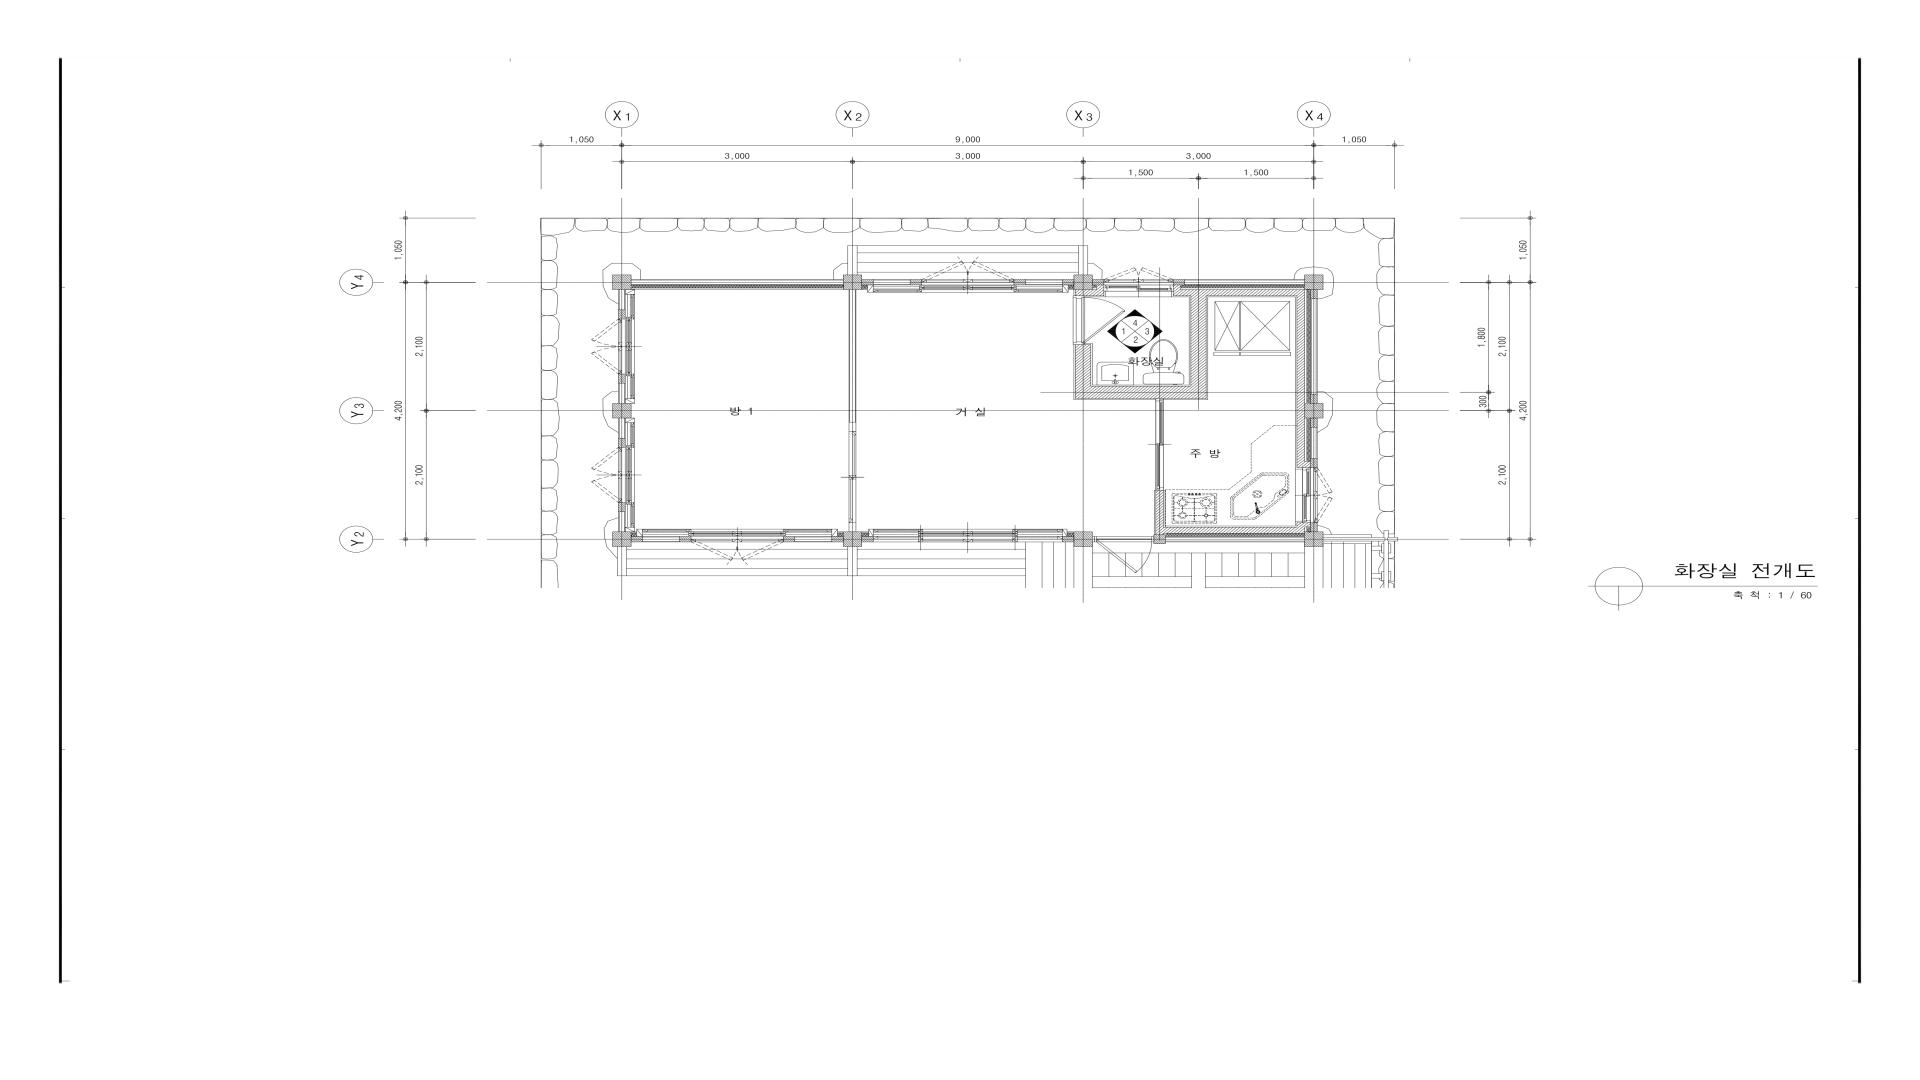door: (1075, 295, 1126, 344), (1092, 537, 1154, 574), (1155, 398, 1163, 491), (849, 431, 856, 531)
wall: (1174, 285, 1311, 468), (1075, 295, 1207, 398), (1155, 491, 1317, 534), (632, 280, 843, 285), (849, 290, 856, 431), (1166, 537, 1304, 542), (1185, 280, 1304, 285), (1311, 299, 1317, 394), (1075, 280, 1104, 295), (612, 531, 632, 547), (612, 274, 632, 290), (843, 274, 862, 290), (1304, 274, 1324, 290), (1073, 531, 1093, 547), (843, 531, 862, 547), (1073, 274, 1092, 290), (1304, 531, 1323, 547), (612, 404, 632, 418), (1305, 404, 1323, 418), (1311, 427, 1317, 459), (873, 280, 910, 285), (1026, 280, 1063, 285), (795, 537, 832, 542), (642, 537, 679, 542), (618, 382, 625, 404), (618, 512, 625, 531), (618, 418, 625, 438), (618, 290, 625, 310), (1154, 534, 1166, 545), (618, 373, 625, 384), (862, 280, 874, 285), (910, 280, 922, 285), (1014, 280, 1026, 285), (1174, 280, 1185, 285), (783, 537, 795, 542), (679, 537, 691, 542), (632, 537, 644, 542), (618, 502, 625, 512), (618, 438, 625, 447), (618, 310, 625, 319), (1311, 290, 1317, 299), (1311, 394, 1317, 404), (1311, 418, 1317, 427), (1311, 459, 1317, 468), (1063, 280, 1073, 285), (1063, 537, 1073, 542), (862, 537, 873, 542), (832, 537, 843, 542)
window: (868, 529, 1067, 542), (920, 260, 1014, 282), (691, 539, 783, 562), (589, 447, 622, 502), (589, 319, 622, 373), (637, 529, 837, 537), (868, 285, 1068, 293), (1313, 468, 1336, 522), (1104, 266, 1174, 282), (625, 418, 634, 531), (625, 290, 634, 404), (1104, 285, 1174, 291), (1303, 468, 1311, 522)
